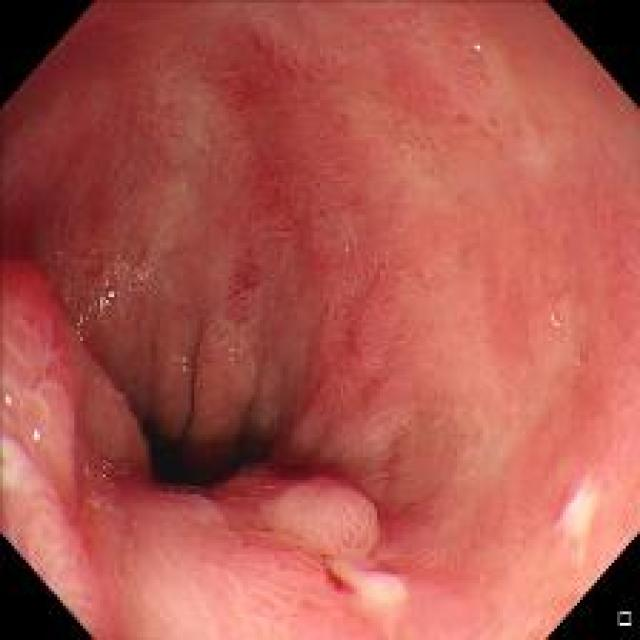bubbles: (570, 352, 589, 376), (460, 462, 479, 480)
color misalignment: (89, 291, 115, 311), (75, 312, 85, 339)
contrast: (136, 418, 306, 505)
specularity: (88, 289, 118, 314), (222, 334, 238, 364), (72, 312, 88, 339), (29, 426, 41, 445), (2, 392, 14, 406), (180, 354, 186, 375)
